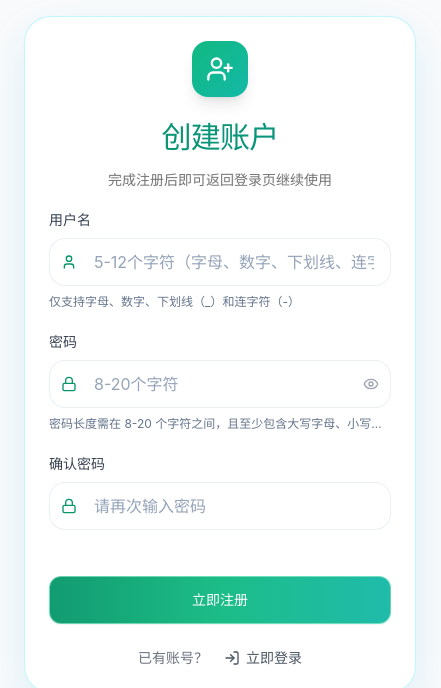
Test: Auth entry pages › uses the configured auth policy instead of hard-coded register limits
Expected: the text "创建账户" is shown, [49,115,391,160]
Type "neo1" into the field labelled "用户名".
click(220, 262); type("neo1")  # box [49,238,391,286]
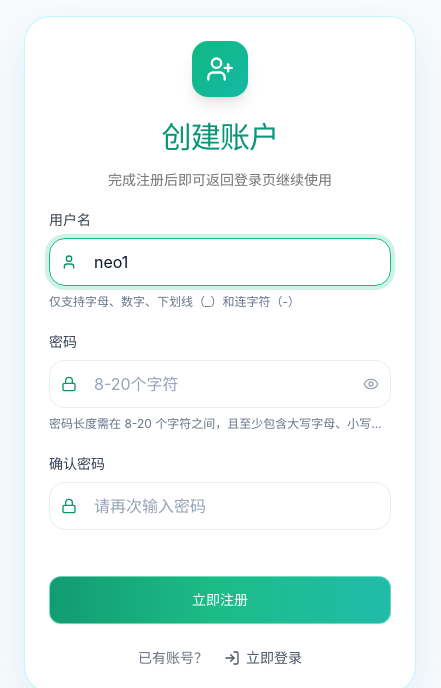
Type "secret12" into the password field labelled "密码".
click(220, 384); type("secret12")  # box [49,360,391,408]
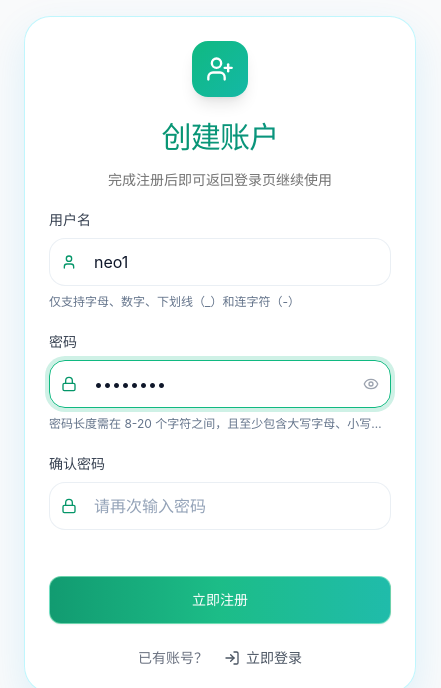
Type "secret12" into the password field labelled "确认密码".
click(220, 506); type("secret12")  # box [49,482,391,530]
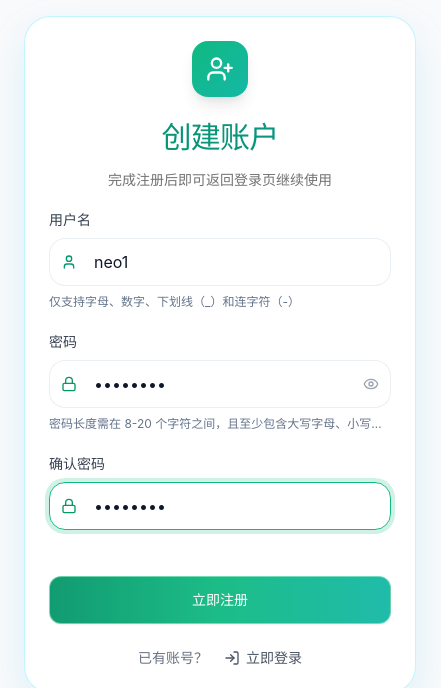
Click the button "立即注册".
click(220, 600)  # box [49,576,391,624]
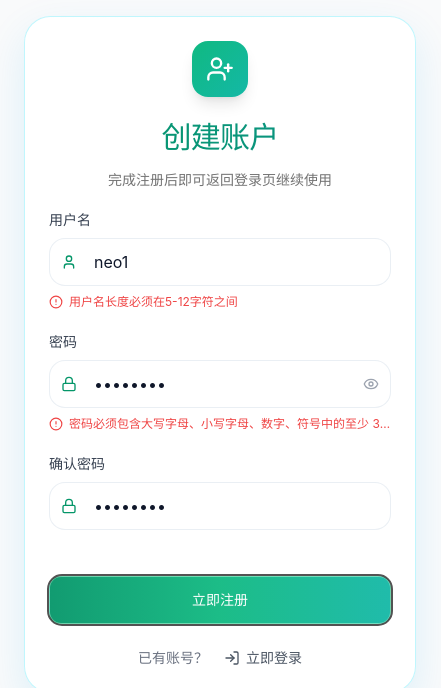
Now the text "用户名长度必须在5-12字符之间" is shown, box [69,294,238,310]
